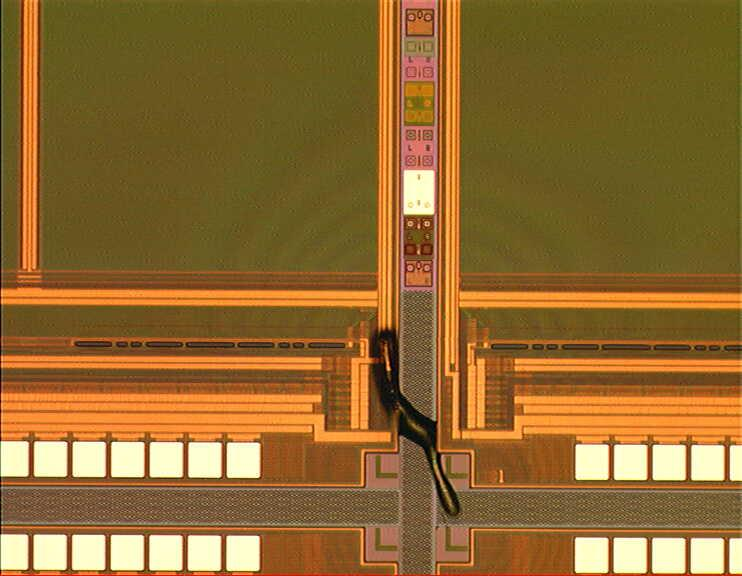PIQ PARTICLE: (365, 323, 466, 524)
